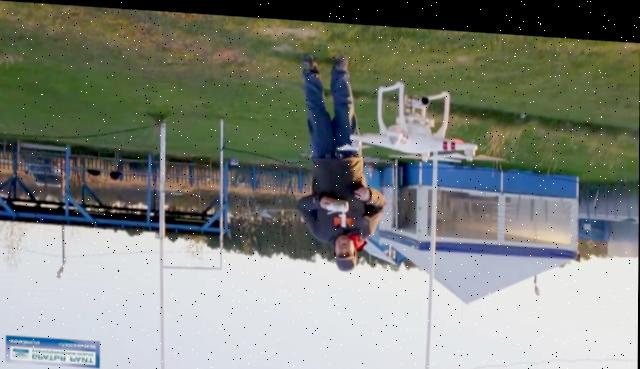drone: (334, 74, 501, 160)
